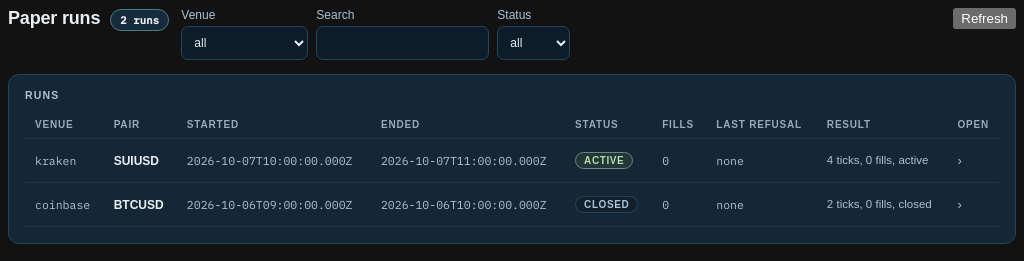
Test: LastRunsPanel — filter selections vs history refresh › keeps a selected status applied and selectable when refresh removes its last run
expect the table with test id "paper-last-runs-table" is shown: met, box [25,111,999,227]
Select "active" in the dropdown named "Filter runs by status" at (534, 43), box [497,26,570,60]
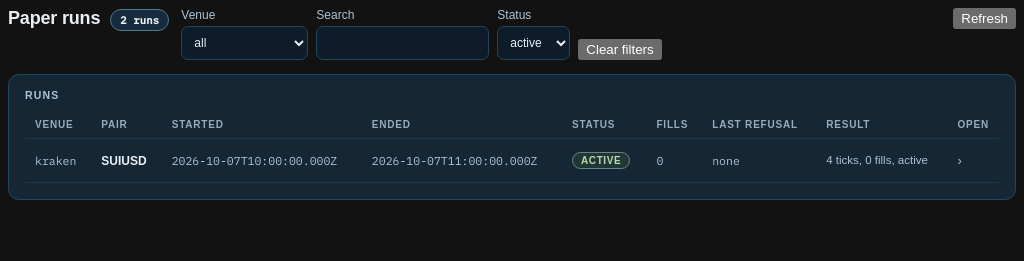
expect the number of rows named "Open run detail" is 1: met, box [25,138,999,182]
Click the button with test id "paper-last-runs-refresh".
click(985, 18)  # box [953,8,1016,29]
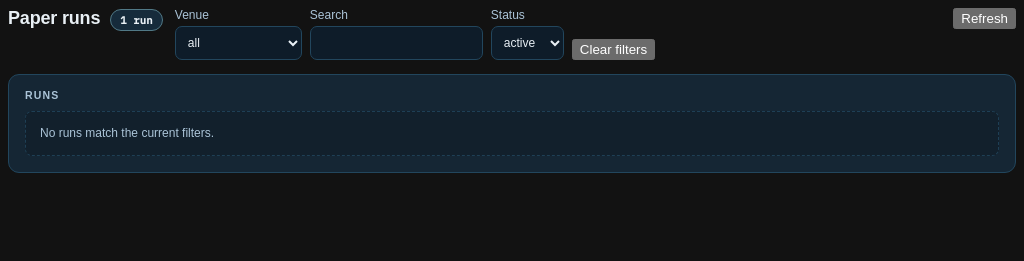
expect the text with test id "paper-last-runs-count" reads "1 run": met, box [120,13,153,27]
expect the text with test id "paper-last-runs-filter-empty" reads "No runs match the current filters.": met, box [40,126,214,140]
